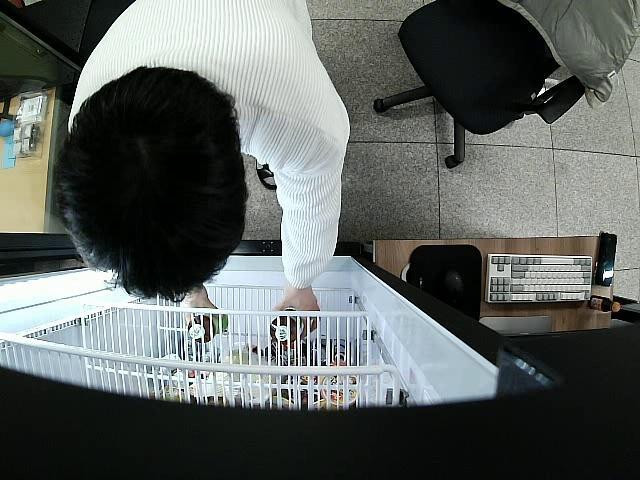19_17cha: (268, 306, 318, 344), (187, 311, 229, 341)
